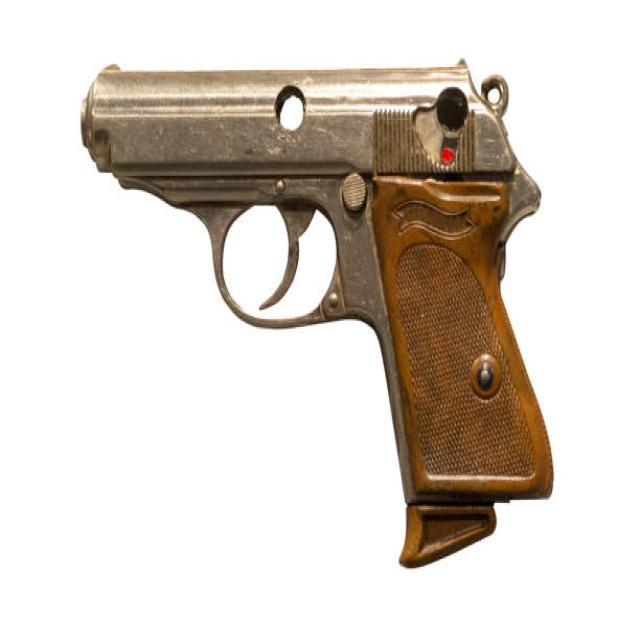pistol: (72, 47, 566, 573)
